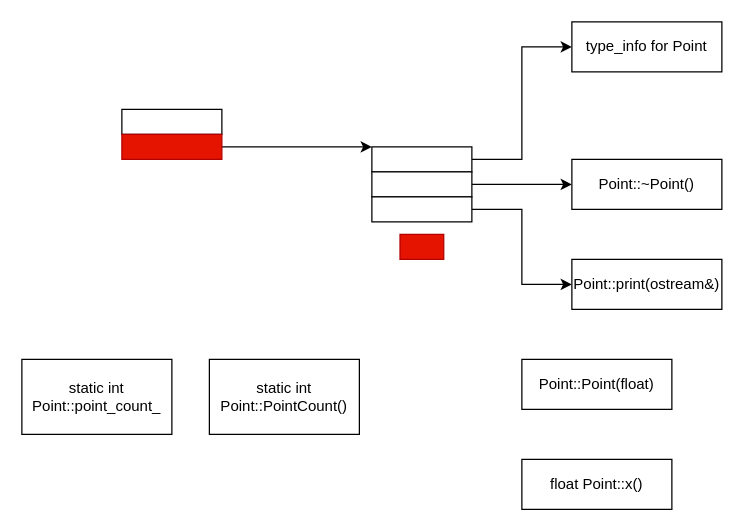
The diagram is 744 pixels wide and 531 high, and some of its shapes have lost their labels. The shapes that lost their labels are listed below. From the top down, each one's box as (x1, y1, x2, y2) in pixels, then its label:
(121, 108, 222, 134): float x_
(121, 133, 222, 159): vptr_ Point
(399, 233, 444, 259): vbtl
